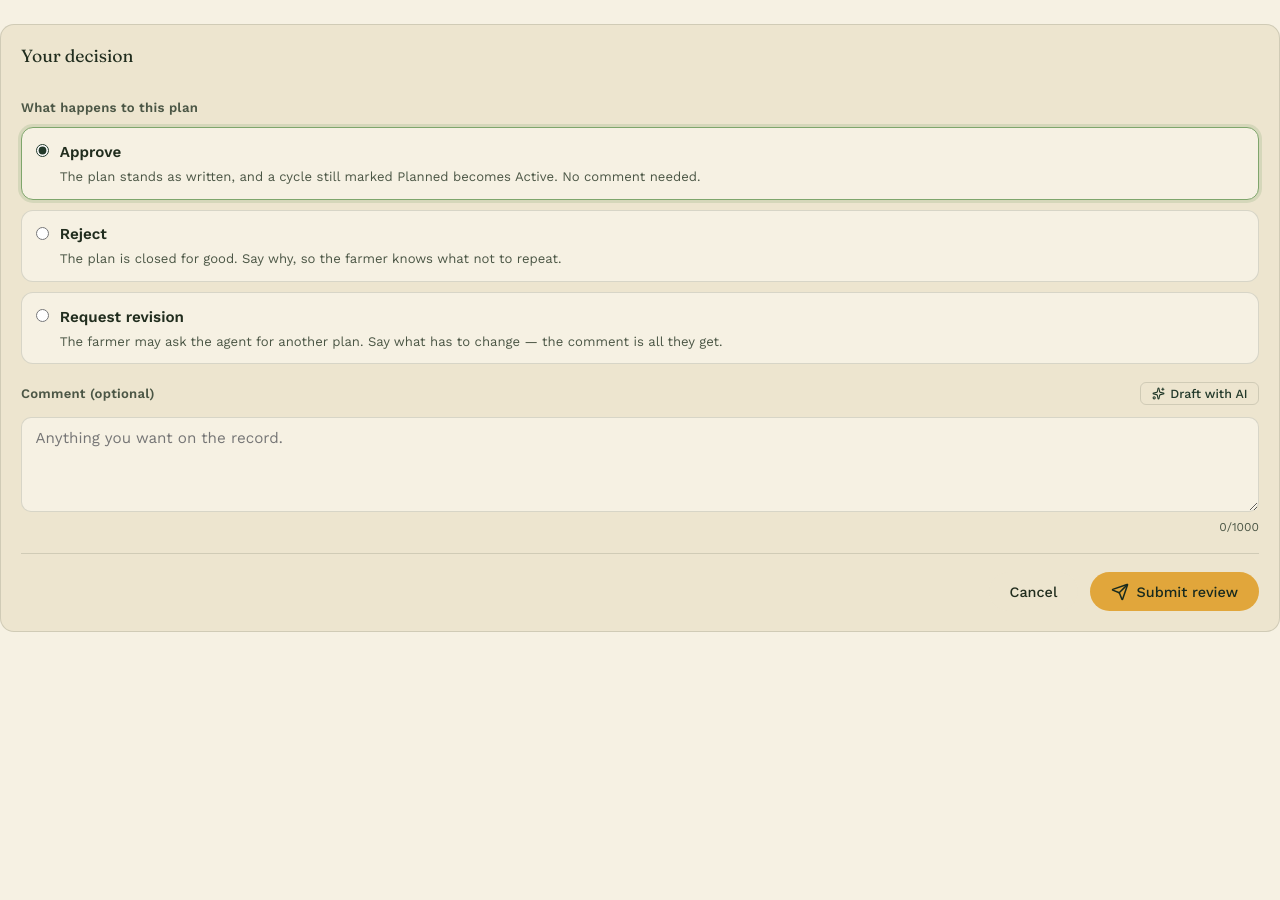
PlanReviewForm › a server { message } is shown and the form stays usable
The width and height of the screenshot is (1280, 900).
Click the button "Submit review": (1175, 592) [1090,572,1259,611]
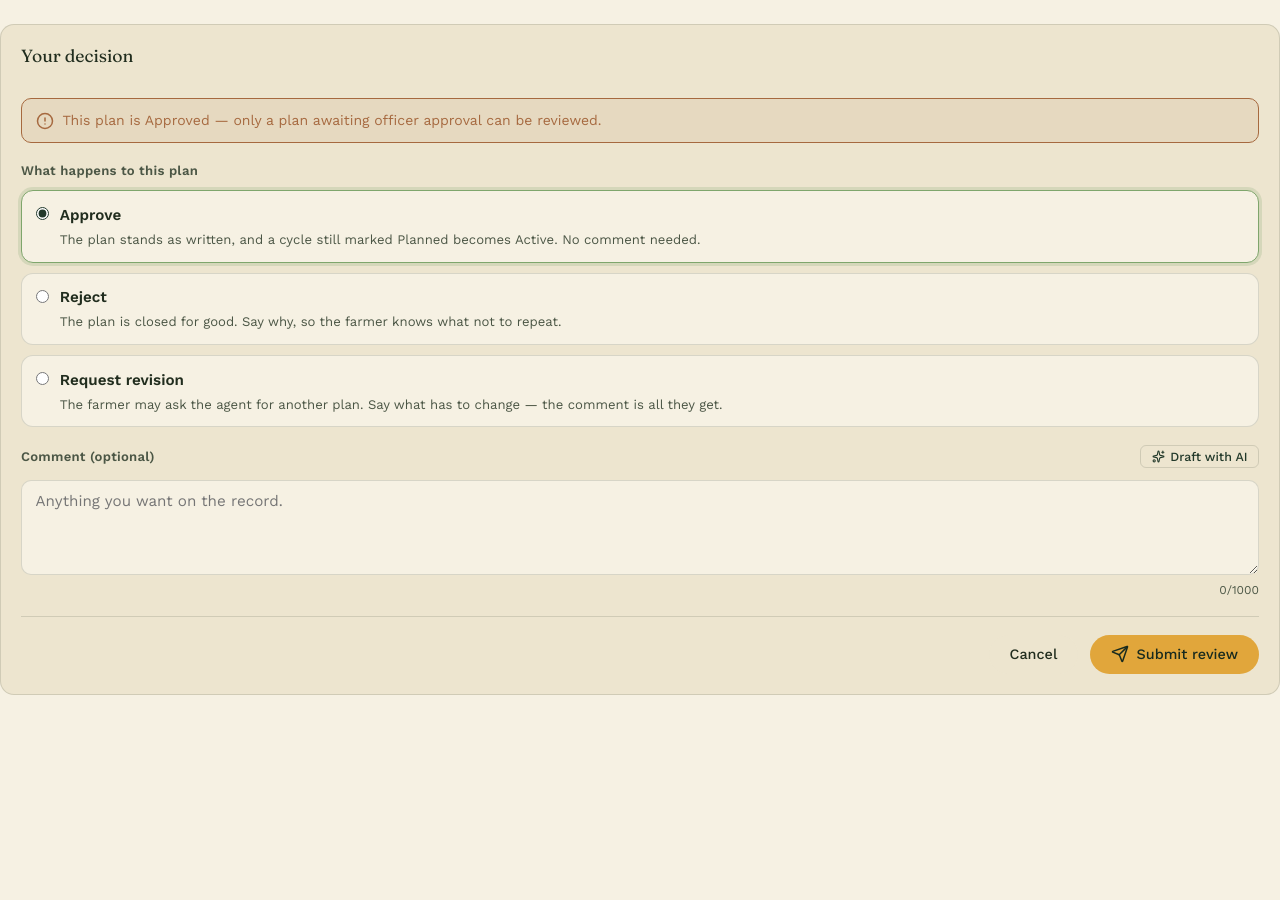
Expected: the button "Submit review" is enabled, [1090,635,1259,674]
Expected: the message reads "This plan is Approved — only a plan awaiting officer approval can be reviewed.", [62,112,602,128]
